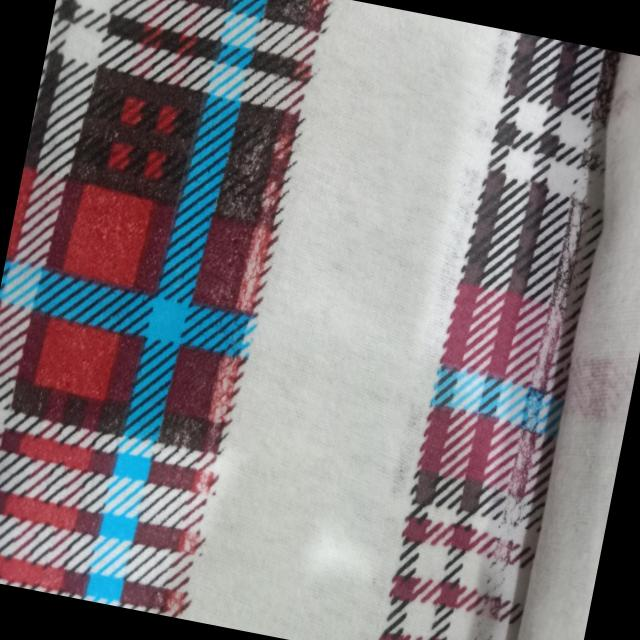selvet: (187, 0, 525, 640)
